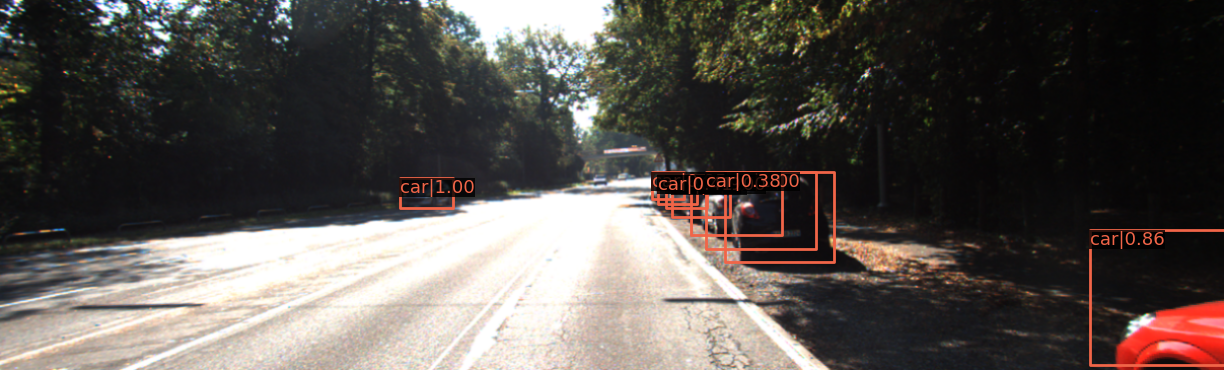car: (1084, 180, 1224, 370), (729, 174, 833, 263), (699, 175, 784, 238), (681, 177, 736, 223), (668, 177, 717, 215), (400, 181, 454, 210), (655, 177, 685, 203)
